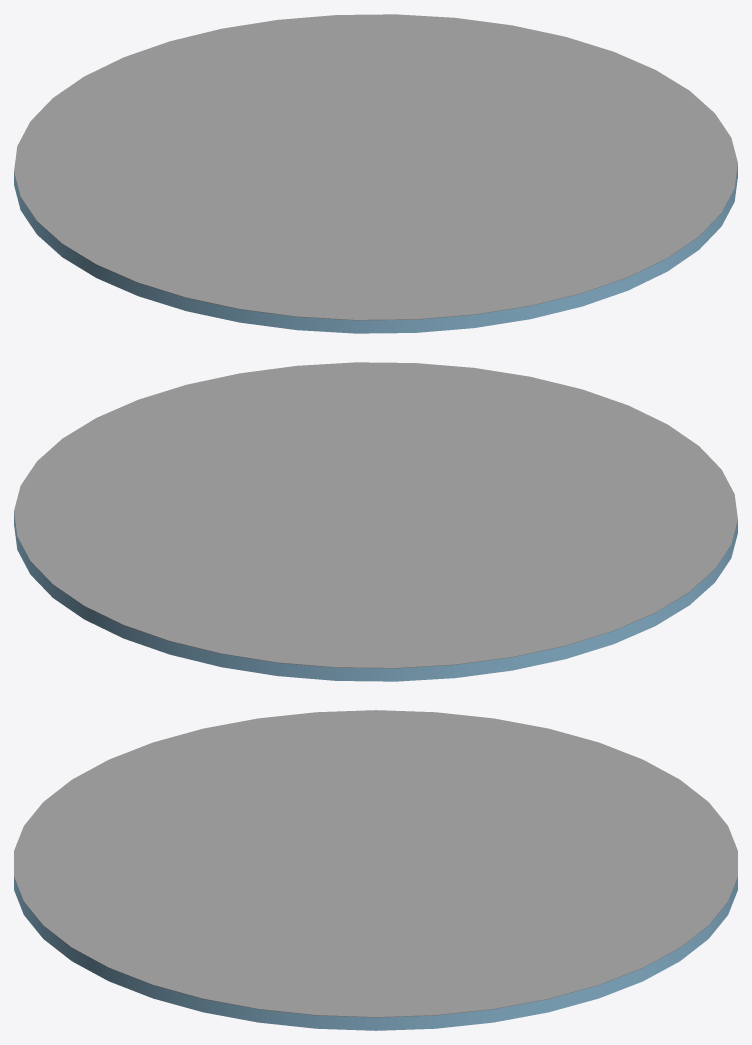
File: ThreeGate.dae
The picture shows the model from 3 angles, top to bottom: view 1: azimuth 30°, elevation 25°; view 2: azimuth 150°, elevation 25°; view 3: azimuth 270°, elevation 25°; orthographic projection.
Parts seen in each view (by area): view 1: 68e14b375e505b02b78667ca (×2); view 2: 68e14b375e505b02b78667ca (×2); view 3: 68e14b375e505b02b78667ca (×2).
Part boxes in pixels (x1,y1,x2,y2): 68e14b375e505b02b78667ca (×2): (14,14,737,333); 68e14b375e505b02b78667ca (×2): (14,362,737,681); 68e14b375e505b02b78667ca (×2): (14,710,737,1030).
Size of the model in its own units: 1.2 by 1.2 by 0.025.
